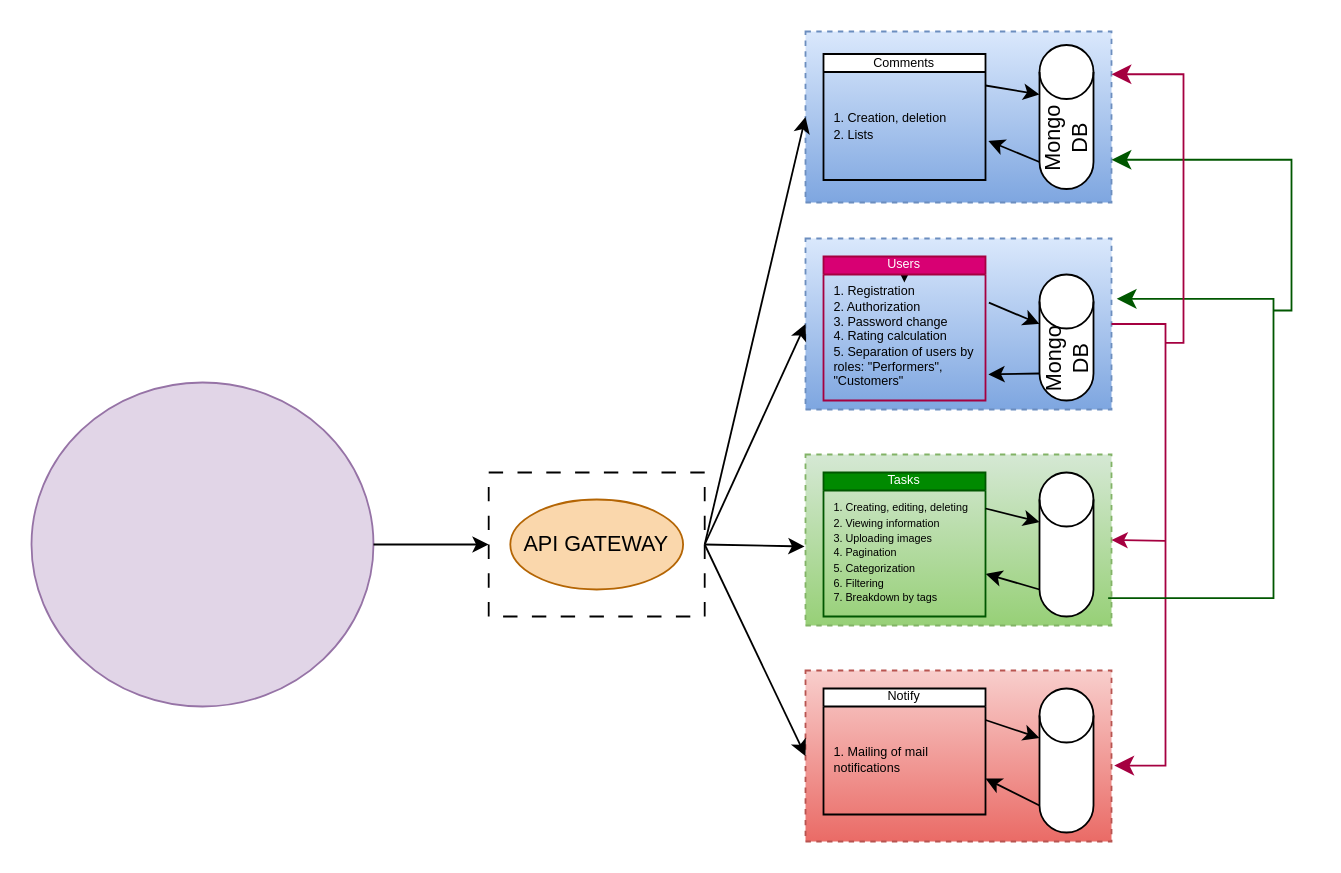
The diagram is 1341 pixels wide and 873 high, and some of its shapes have lost their labels. The shapes that lost their labels are listed below. From the top down, each one's centre as x and y in pixels, then its label:
At [202,543]: "КЛИЕТЫ".
At [1066,543]: "Postgre SQL".
At [1066,759]: "Rabbit MQ".
